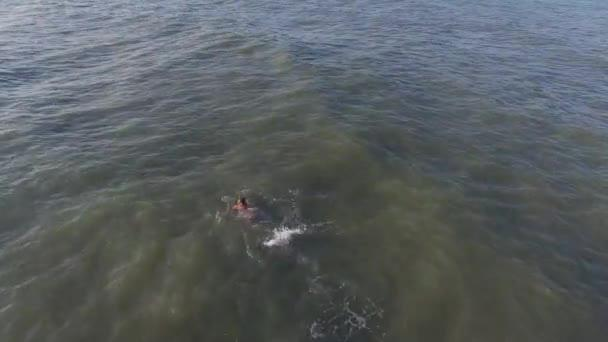swimmer: (227, 192, 255, 218)
